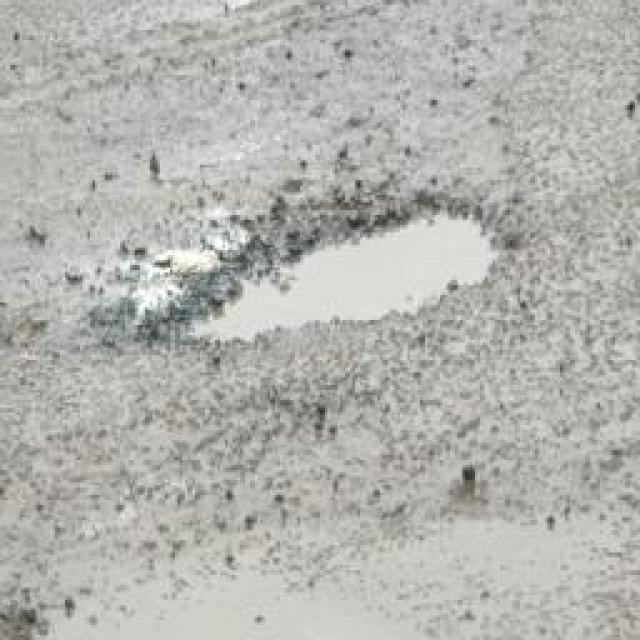waterlogging: (172, 198, 526, 330)
